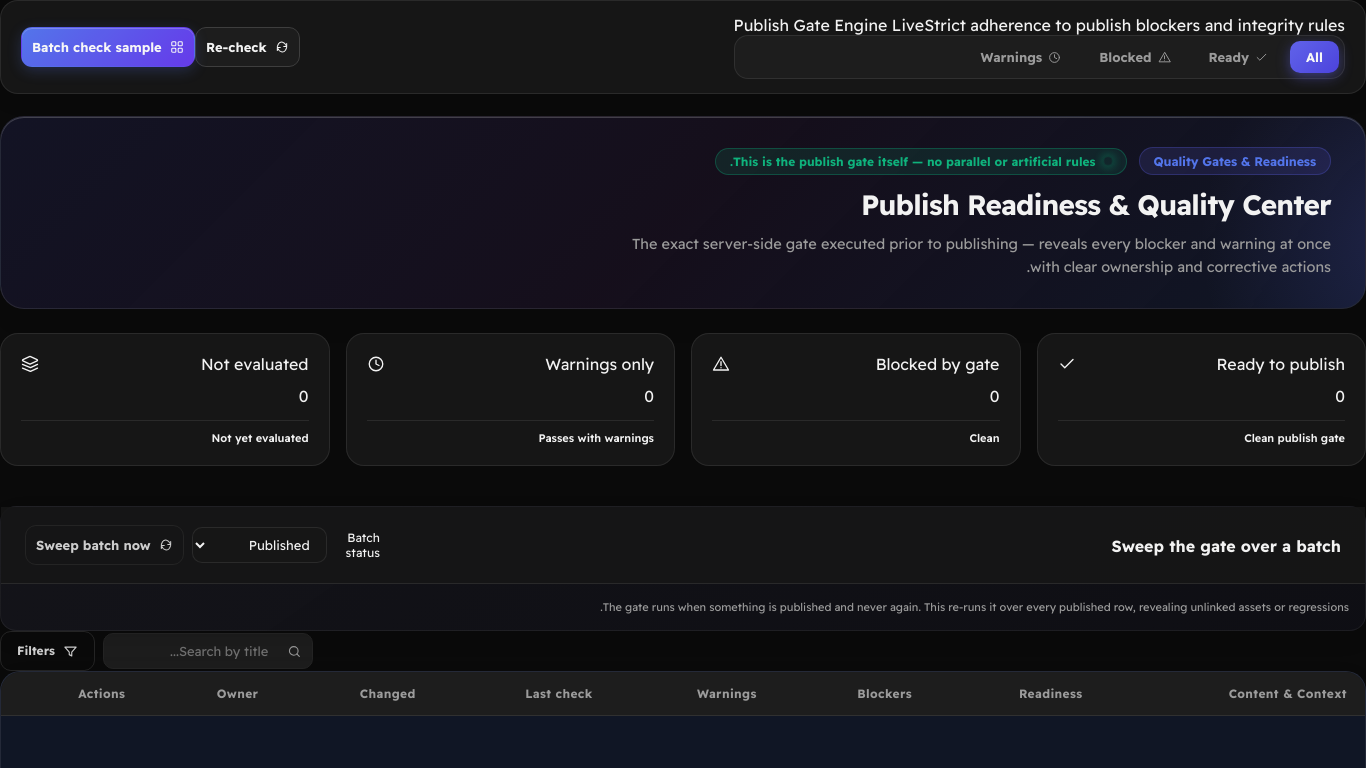
Test: مسح البوابة › تقرير القصة يقول كم وأين، لا اسم الفحص وحده
Step 1. Select "Ready" in the dropdown labelled "Batch status" → point(259, 545), box [192, 527, 327, 563]
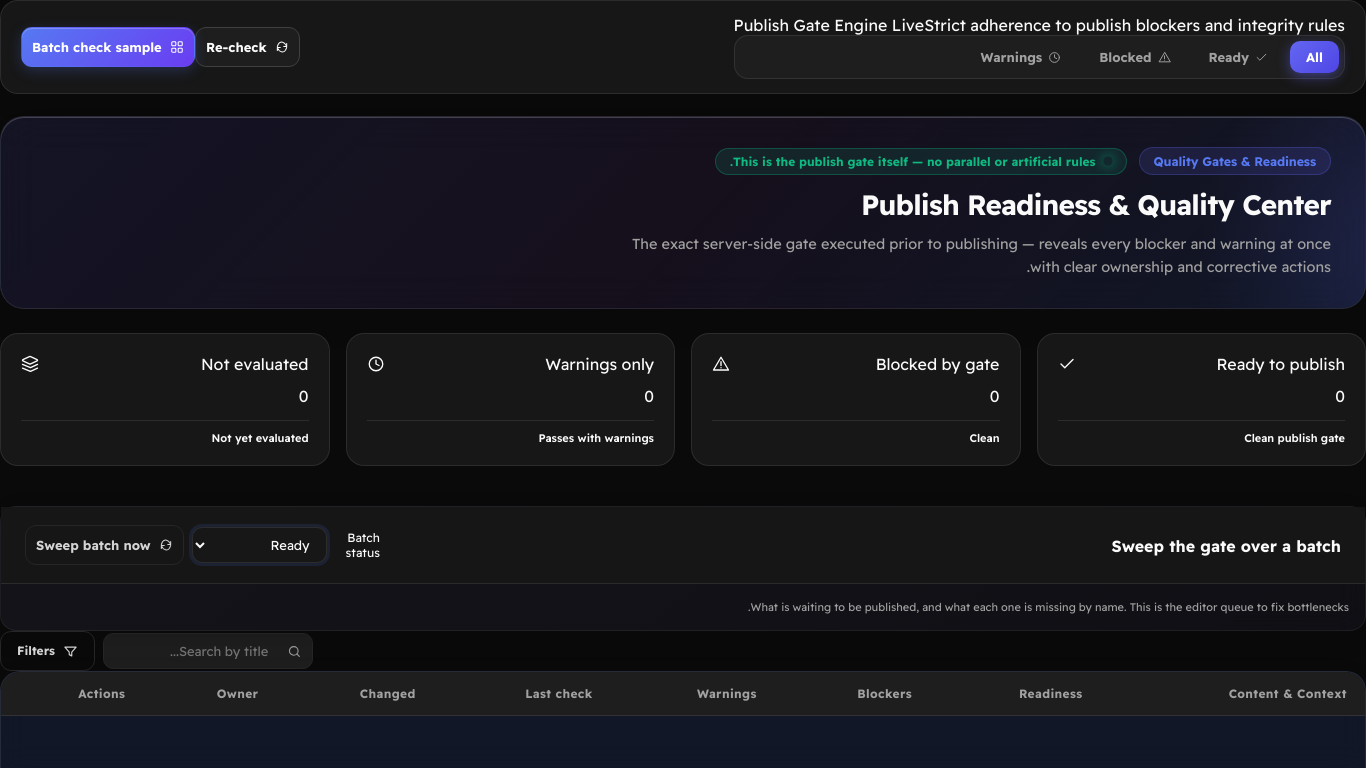
Step 2. Click the button "Sweep batch now" → point(104, 545), box [25, 525, 184, 565]
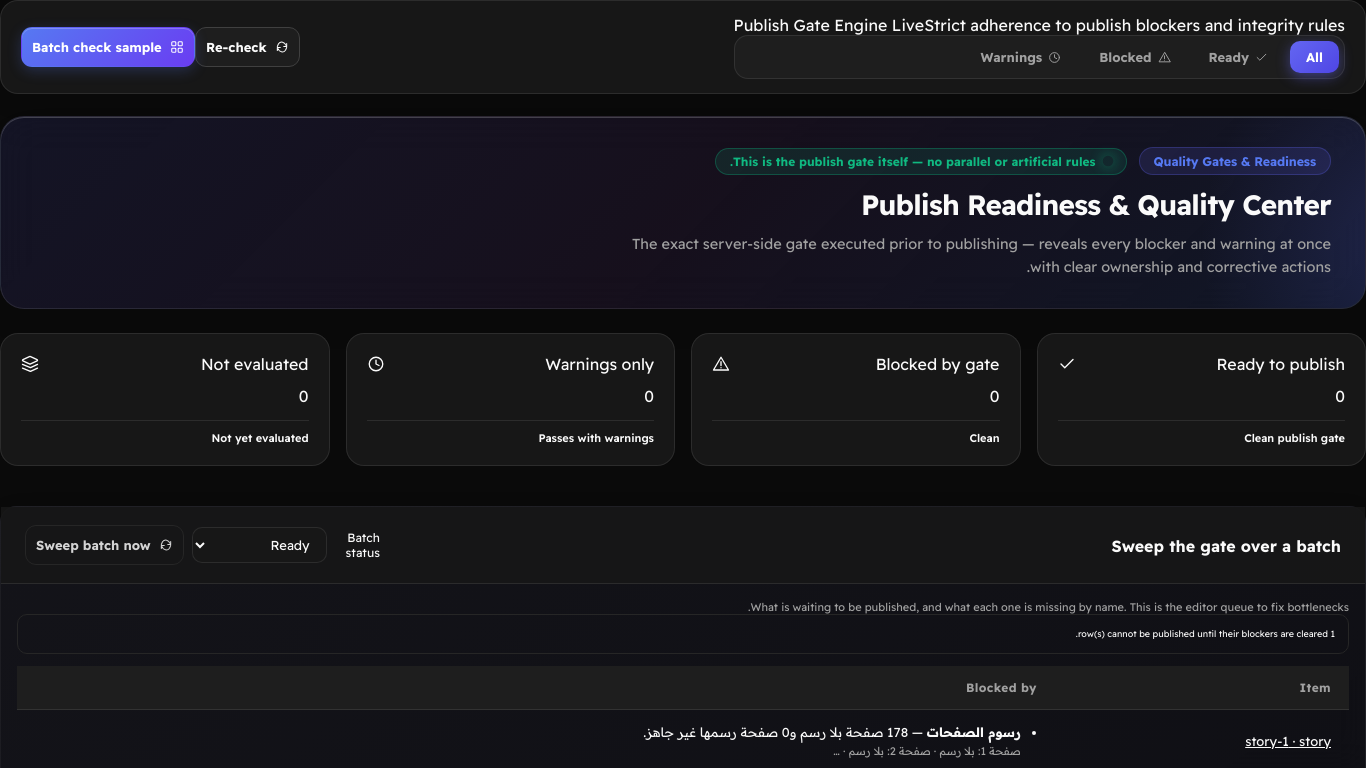
Expected: the text "رسوم الصفحات" is shown, [927, 724, 1021, 740]
Expected: the list item "178 صفحة بلا رسم" is shown, [643, 724, 908, 740]
Expected: the text "صفحة 1: بلا رسم" is shown, [303, 744, 1021, 758]
